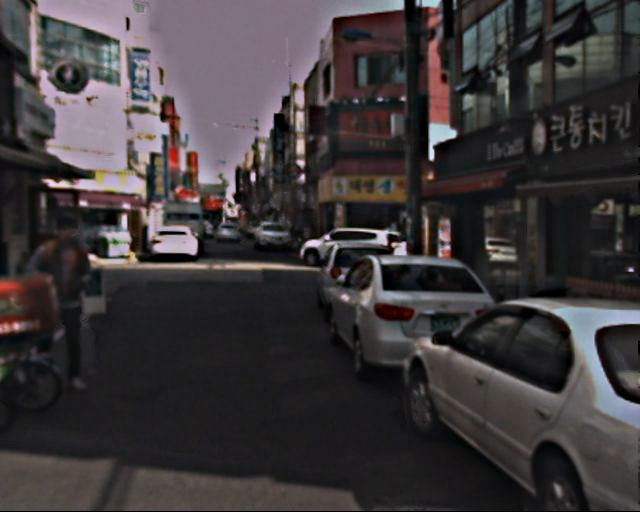person: (29, 212, 108, 389)
